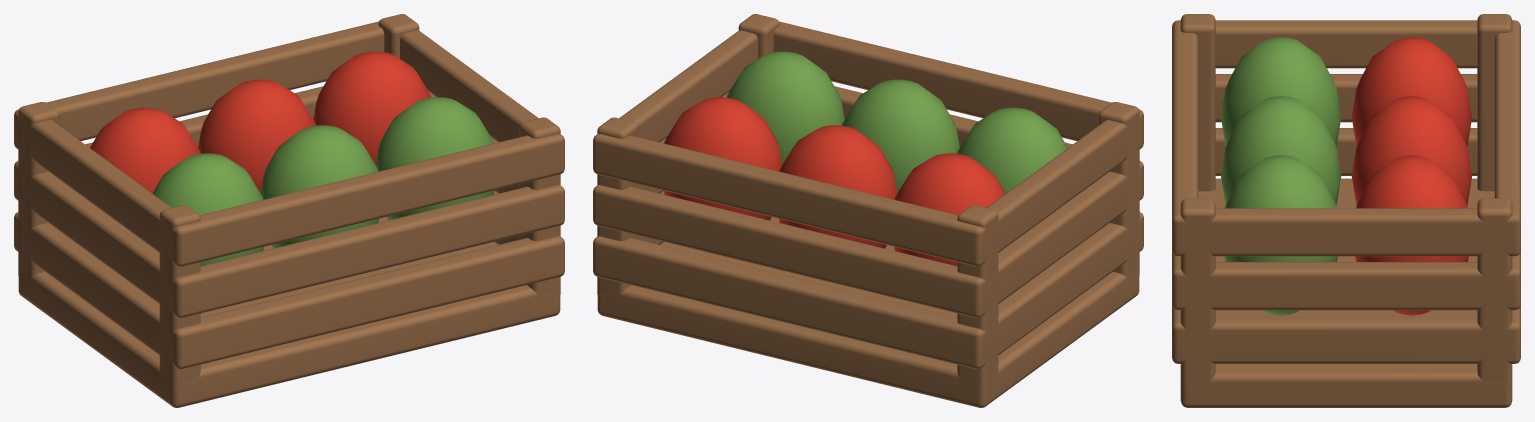
Rendered from HotelTogether-VegCrate.glb.
3 views of the same model, side by side, from view 1: azimuth 30°, elevation 25°; view 2: azimuth 150°, elevation 25°; view 3: azimuth 270°, elevation 25° (orthographic). The views are drawn at different scales.
Visible parts, largest first — view 1: Crate_Base, Crate_LongSlat, Crate_LongSlat.002, Crate_LongSlat.004, Crate_LongSlat.005, Crate_Produce.005, Crate_Produce.004, Crate_ShortSlat.004, Crate_ShortSlat, Crate_ShortSlat.002, Crate_Produce.001, Crate_Produce.002 (+8 smaller); view 2: Crate_Base, Crate_LongSlat.001, Crate_LongSlat.005, Crate_LongSlat.003, Crate_LongSlat.004, Crate_Produce.002, Crate_Produce.001, Crate_ShortSlat.004, Crate_ShortSlat.002, Crate_ShortSlat, Crate_Produce.004, Crate_Produce.005 (+8 smaller); view 3: Crate_Base, Crate_ShortSlat.005, Crate_ShortSlat.003, Crate_ShortSlat.001, Crate_ShortSlat.004, Crate_Produce.001, Crate_Produce.004, Crate_Produce, Crate_Produce.003, Crate_LongSlat.005, Crate_LongSlat.004, Crate_Produce.002 (+11 smaller).
Boxes of the visible parts, left/top/right/bottom form: Crate_Base: left=18, top=217, right=560, bottom=407; Crate_LongSlat: left=168, top=236, right=564, bottom=369; Crate_LongSlat.002: left=168, top=185, right=564, bottom=317; Crate_LongSlat.004: left=168, top=133, right=564, bottom=266; Crate_LongSlat.005: left=14, top=21, right=384, bottom=149; Crate_Produce.005: left=313, top=51, right=431, bottom=164; Crate_Produce.004: left=198, top=79, right=315, bottom=192; Crate_ShortSlat.004: left=29, top=120, right=171, bottom=252; Crate_ShortSlat: left=27, top=223, right=160, bottom=354; Crate_ShortSlat.002: left=29, top=171, right=160, bottom=303; Crate_Produce.001: left=260, top=125, right=378, bottom=248; Crate_Produce.002: left=375, top=97, right=493, bottom=220; Crate_Base: left=597, top=217, right=1139, bottom=407; Crate_LongSlat.001: left=593, top=236, right=989, bottom=369; Crate_LongSlat.005: left=593, top=133, right=989, bottom=266; Crate_LongSlat.003: left=593, top=185, right=989, bottom=317; Crate_LongSlat.004: left=773, top=21, right=1143, bottom=148; Crate_Produce.002: left=726, top=51, right=844, bottom=164; Crate_Produce.001: left=842, top=79, right=959, bottom=192; Crate_ShortSlat.004: left=986, top=120, right=1128, bottom=252; Crate_ShortSlat.002: left=995, top=171, right=1128, bottom=303; Crate_ShortSlat: left=996, top=223, right=1128, bottom=354; Crate_Produce.004: left=779, top=125, right=897, bottom=248; Crate_Produce.005: left=664, top=97, right=782, bottom=220; Crate_Base: left=1180, top=178, right=1512, bottom=407; Crate_ShortSlat.005: left=1204, top=208, right=1488, bottom=256; Crate_ShortSlat.003: left=1204, top=262, right=1488, bottom=310; Crate_ShortSlat.001: left=1204, top=316, right=1488, bottom=363; Crate_ShortSlat.004: left=1215, top=20, right=1477, bottom=68; Crate_Produce.001: left=1221, top=96, right=1341, bottom=205; Crate_Produce.004: left=1351, top=96, right=1471, bottom=205; Crate_Produce: left=1221, top=37, right=1341, bottom=146; Crate_Produce.003: left=1351, top=37, right=1471, bottom=146; Crate_LongSlat.005: left=1494, top=20, right=1520, bottom=256; Crate_LongSlat.004: left=1172, top=20, right=1198, bottom=256; Crate_Produce.002: left=1224, top=155, right=1337, bottom=315.
Size of the model in its own units: 0.54 by 0.265 by 0.4.
